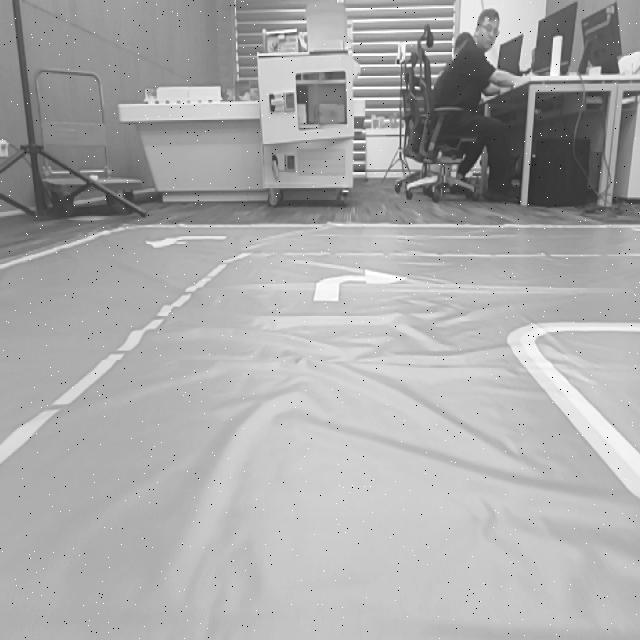left_lane: (0, 258, 228, 466)
right_lane: (508, 340, 640, 502)
